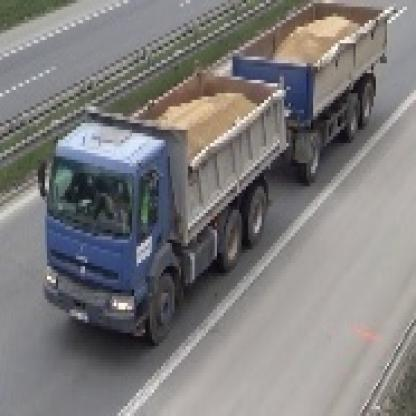truck: (37, 1, 386, 344)
